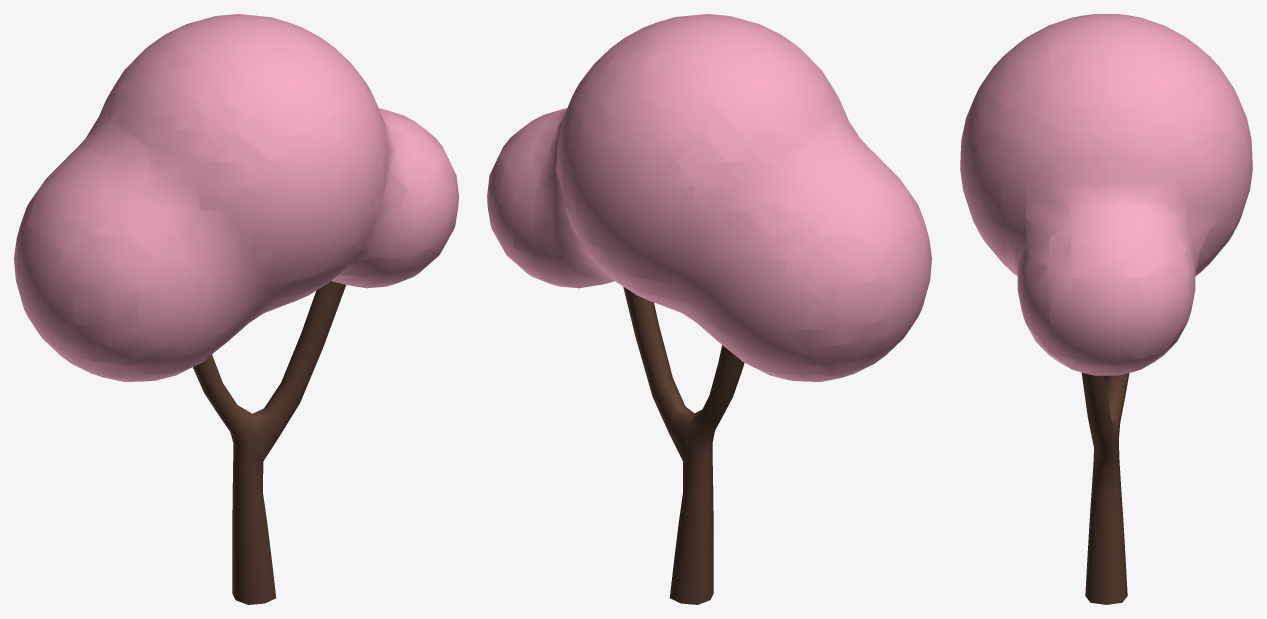
File: sakura.glb
3 views of the same model, side by side, from view 1: azimuth 30°, elevation 25°; view 2: azimuth 150°, elevation 25°; view 3: azimuth 270°, elevation 25° (orthographic).
Visible parts, largest first — view 1: Tree_3; view 2: Tree_3; view 3: Tree_3.
Part boxes in pixels (x1,y1,x2,y2): Tree_3: (14,14,458,604); Tree_3: (487,14,931,604); Tree_3: (960,14,1252,604).
Size of the model in its own units: 4.27 by 5.59 by 2.64.
